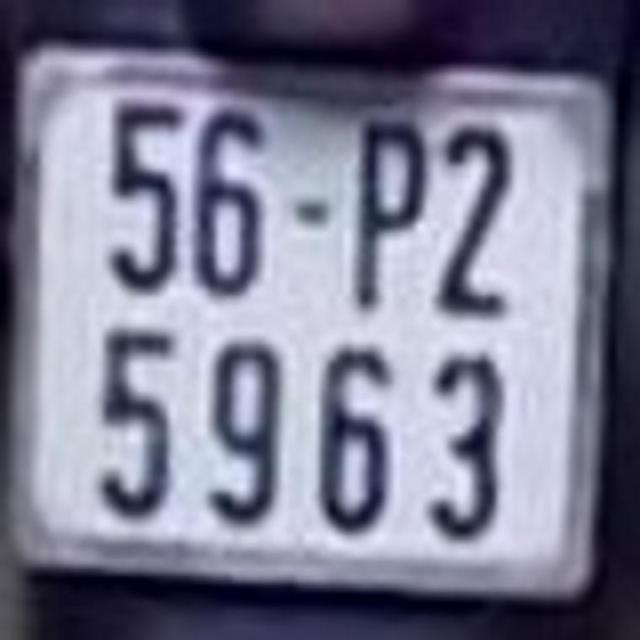2: (441, 95, 518, 324)
3: (429, 338, 507, 545)
5: (90, 74, 187, 293), (94, 318, 182, 510)
6: (309, 322, 403, 532), (190, 88, 273, 304)
9: (208, 318, 285, 522)
P: (346, 92, 425, 318)
